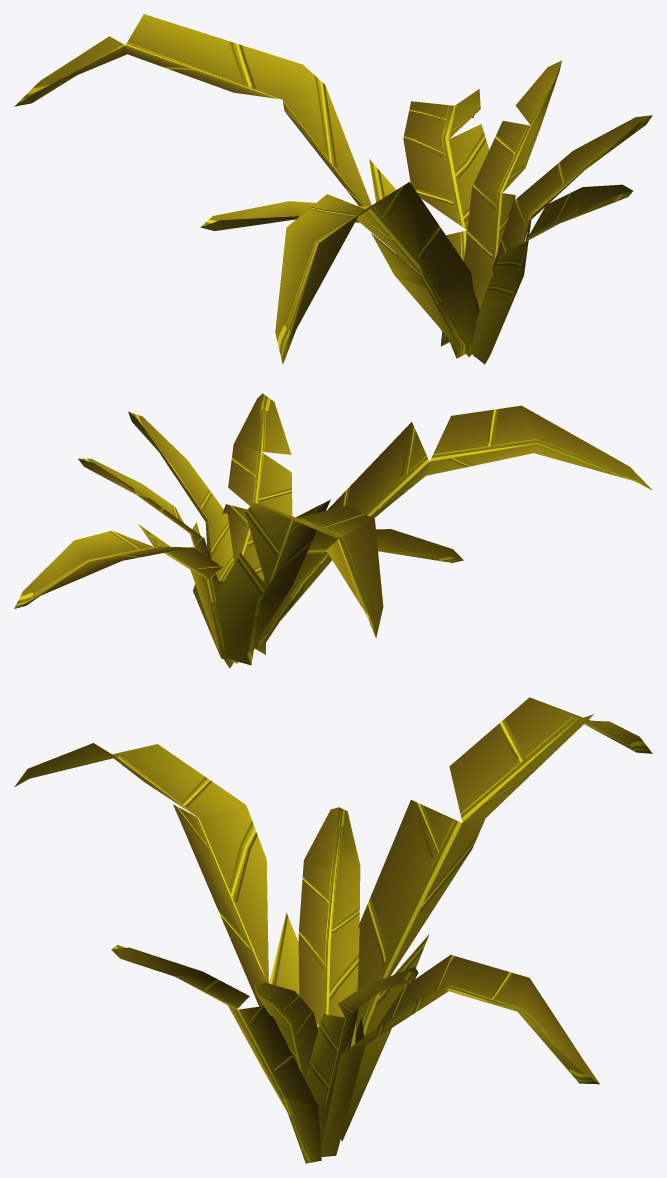
File: plant2.fbx
The picture shows the model from 3 angles, top to bottom: view 1: azimuth 30°, elevation 25°; view 2: azimuth 150°, elevation 25°; view 3: azimuth 270°, elevation 25°; orthographic projection. The views are drawn at different scales.
Visible parts, largest first — view 1: Default_Layer; view 2: Default_Layer; view 3: Default_Layer.
Boxes of the visible parts, box(x1,y1,x2,y2) form: Default_Layer: box(14, 14, 652, 364); Default_Layer: box(14, 393, 652, 668); Default_Layer: box(14, 697, 652, 1163).
Size of the model in its own units: 385 by 234 by 402.
